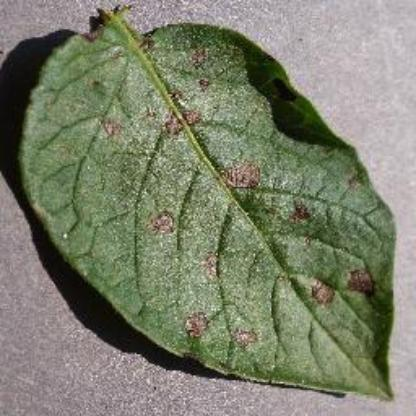Early-Blight: (9, 0, 408, 404)
